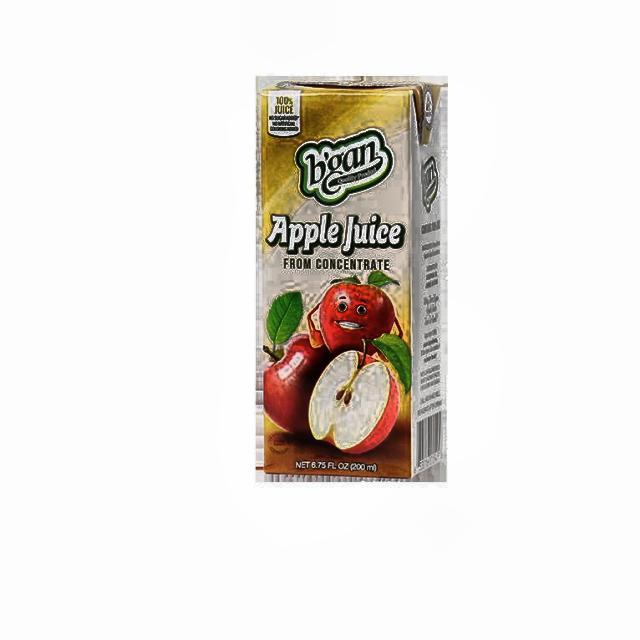cardboard: (255, 76, 448, 481)
